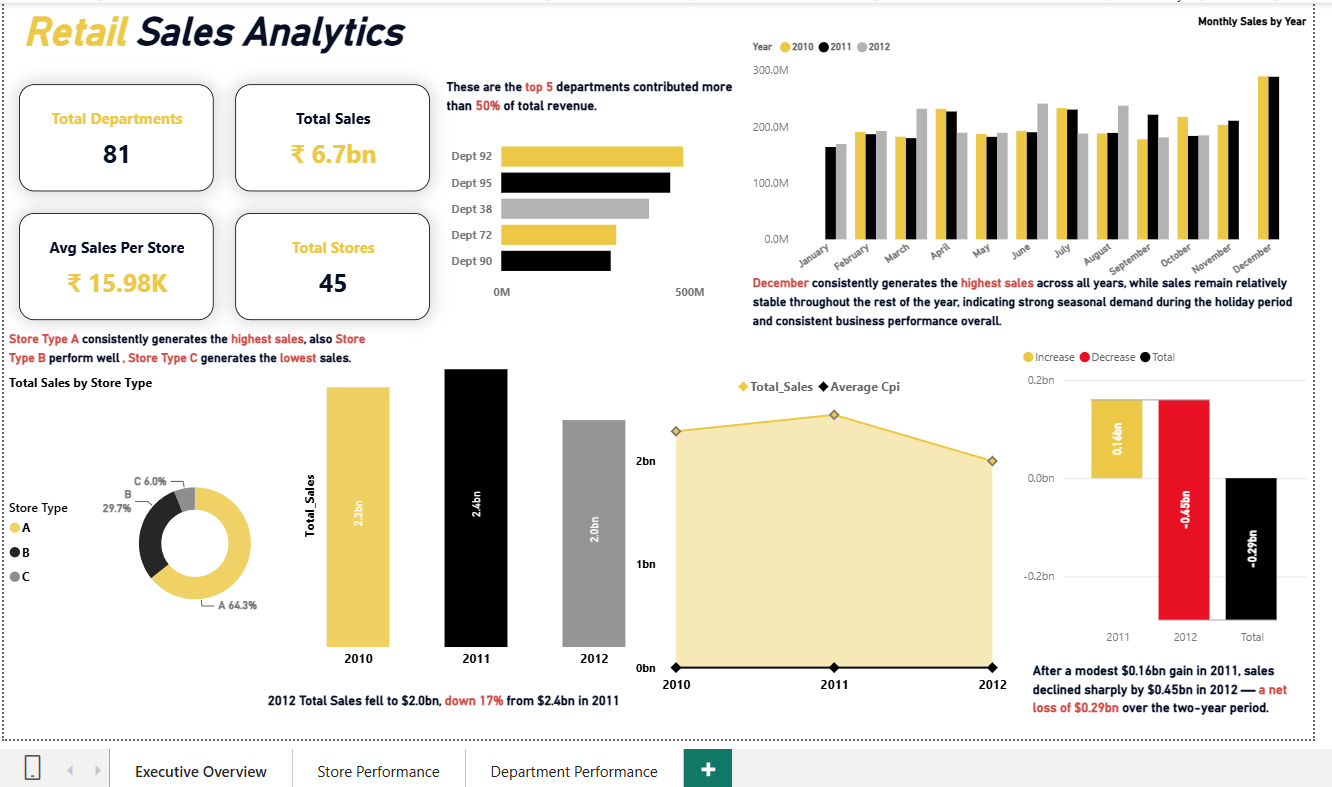

The dashboard page shown, as its layout file describes it:
{"tool":"powerbi","page":{"name":"Executive Overview","canvas":[1280,720],"ordinal":0},"visuals":[{"type":"cardVisual","fields":{"Data":["Table.Total Departments"]},"box":[14.7,79.5,190.8,105.2],"z":0},{"type":"textbox","box":[15.1,0,548.9,64.5],"z":1000},{"type":"cardVisual","fields":{"Data":["Table.Avg_WeeklySales"]},"box":[14.7,205.4,190.8,105.2],"z":2000},{"type":"cardVisual","fields":{"Data":["Table.Total_Sales"]},"box":[226.2,79.5,190.8,105.2],"z":3000},{"type":"cardVisual","fields":{"Data":["Table.Total Stores"]},"box":[226.2,205.4,190.8,105.2],"z":4000},{"type":"columnChart","fields":{"Category":["gold dim_date.calendar_year"],"Y":["Table.Total_Sales"]},"box":[289.3,338.5,323.3,321.5],"z":5000},{"type":"donutChart","title":"Total Sales by Store Type","fields":{"Y":["Table.Total_Sales"],"Category":["gold dim_store.store_type"]},"box":[0,363.6,291,315.2],"z":6000},{"type":"areaChart","fields":{"Category":["gold dim_date.calendar_year"],"Y":["Table.Total_Sales","Table.Average Cpi"]},"box":[612.5,356.4,373.4,329.6],"z":7000},{"type":"textbox","box":[252.5,666.3,374.3,43],"z":8000},{"type":"waterfallChart","fields":{"Category":["gold dim_date.calendar_year"],"Y":["Table.YoY Sales Change"]},"box":[992.2,327.8,287.5,309],"z":9000},{"type":"textbox","box":[1001.2,636.7,269.6,76.1],"z":10000},{"type":"barChart","title":"Total Sales by Store Id","fields":{"Category":["gold dim_department.department_name"],"Y":["Table.Total_Sales"]},"box":[431.9,117.7,295.7,182.9],"z":11000},{"type":"textbox","box":[428,66.1,299.6,66.1],"z":12000},{"type":"clusteredColumnChart","title":"Monthly Sales by Year","fields":{"Category":["gold dim_date.full_date.Variation.Date Hierarchy.Month"],"Series":["gold dim_date.calendar_year"],"Y":["Table.Total_Sales"]},"box":[728.1,10.7,551.6,266.9],"z":13000},{"type":"textbox","box":[728.1,257.9,551.6,69.9],"z":14000},{"type":"textbox","box":[0,313.4,383.3,50.1],"z":15000}]}

Visuals, with their boxes on the page's 1280x720 design canvas (x1, y1, x2, y2). These are canvas units, not pixel positions in the 1332x787 screenshot, which may show the page scaled, cropped or inside an application window:
cardVisual - Table.Total Departments: Rect(15, 80, 206, 185)
textbox: Rect(15, 0, 564, 64)
cardVisual - Table.Avg_WeeklySales: Rect(15, 205, 206, 311)
cardVisual - Table.Total_Sales: Rect(226, 80, 417, 185)
cardVisual - Table.Total Stores: Rect(226, 205, 417, 311)
columnChart - gold dim_date.calendar_year x Table.Total_Sales: Rect(289, 338, 613, 660)
"Total Sales by Store Type" donutChart: Rect(0, 364, 291, 679)
areaChart - gold dim_date.calendar_year x Table.Total_Sales: Rect(612, 356, 986, 686)
textbox: Rect(252, 666, 627, 709)
waterfallChart - gold dim_date.calendar_year x Table.YoY Sales Change: Rect(992, 328, 1280, 637)
textbox: Rect(1001, 637, 1271, 713)
"Total Sales by Store Id" barChart: Rect(432, 118, 728, 301)
textbox: Rect(428, 66, 728, 132)
"Monthly Sales by Year" clusteredColumnChart: Rect(728, 11, 1280, 278)
textbox: Rect(728, 258, 1280, 328)
textbox: Rect(0, 313, 383, 364)
